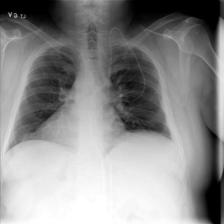normal: (8, 36, 175, 159)
